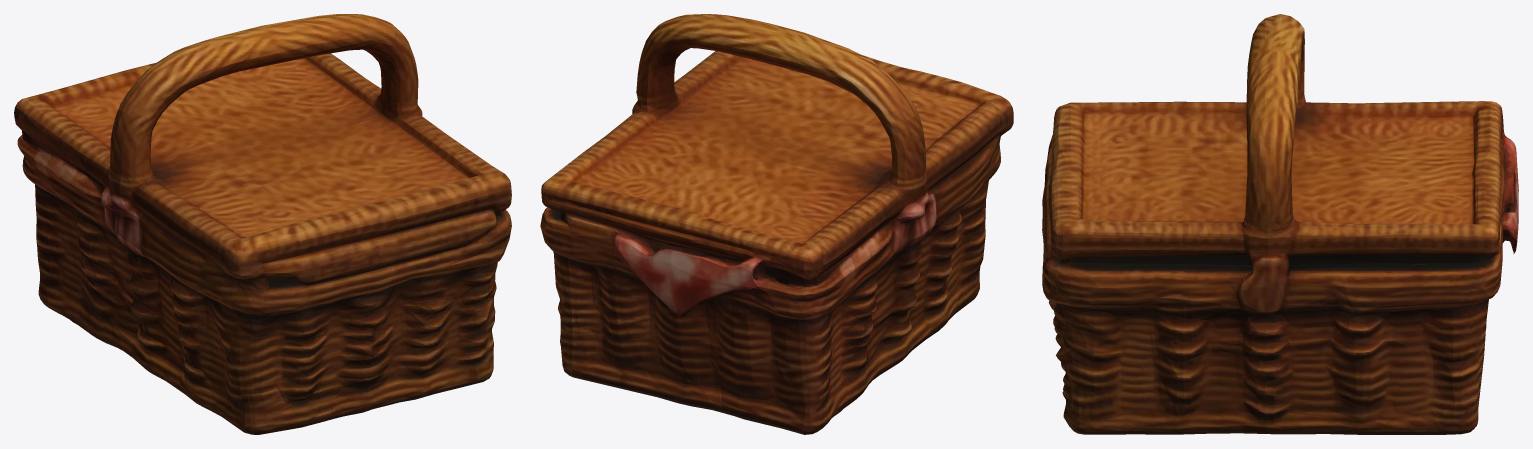
The picture shows the model from 3 angles, left to right: view 1: azimuth 30°, elevation 25°; view 2: azimuth 150°, elevation 25°; view 3: azimuth 270°, elevation 25°; orthographic projection. The views are drawn at different scales.
Visible parts, largest first — view 1: world; view 2: world; view 3: world.
Part boxes in pixels (<box>): world: <box>14,14,511,434</box>; world: <box>540,14,1013,434</box>; world: <box>1042,14,1518,434</box>.
Size of the model in its own units: 0.7576 by 0.7448 by 0.9953.
Materials: 1 (1 with a texture image).
